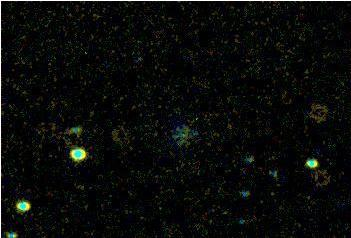star: (209, 197, 239, 227)
